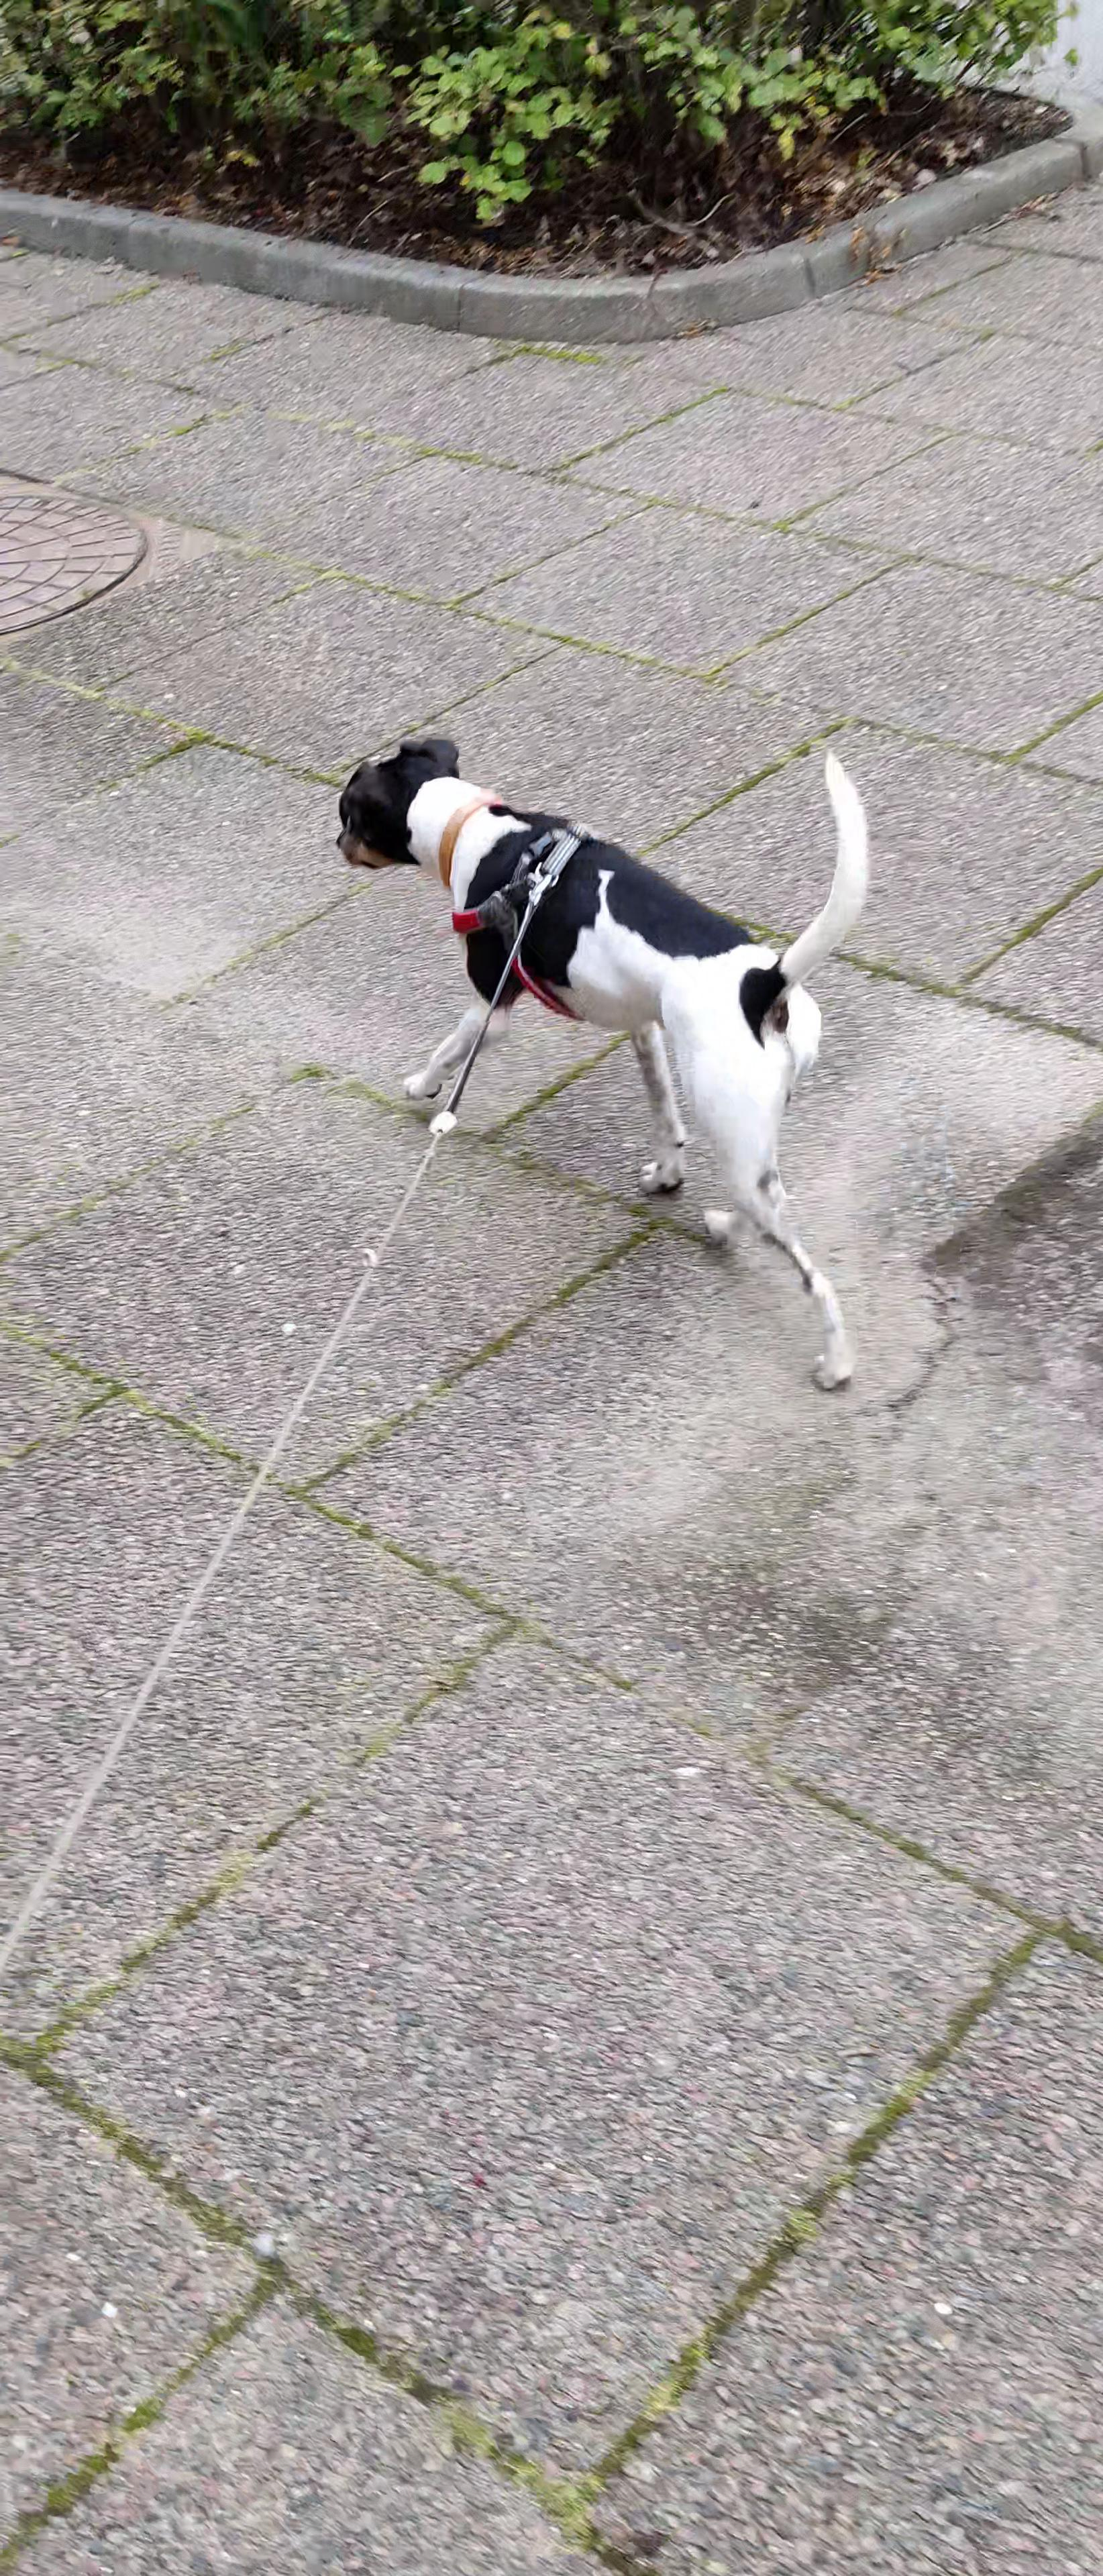Dog: (319, 678, 886, 1406)
